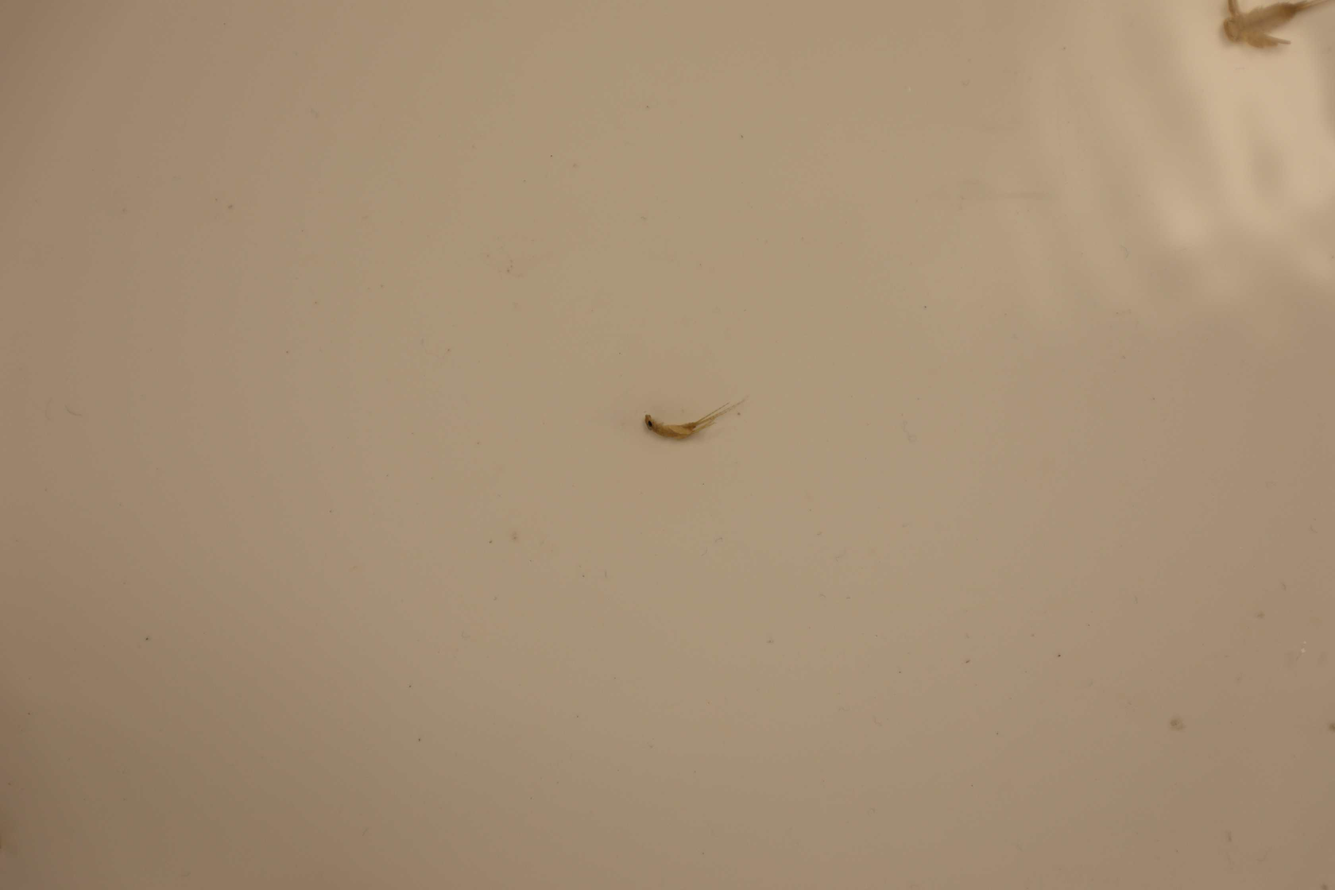Mayfly: (1209, 0, 1335, 56), (639, 393, 754, 446)
